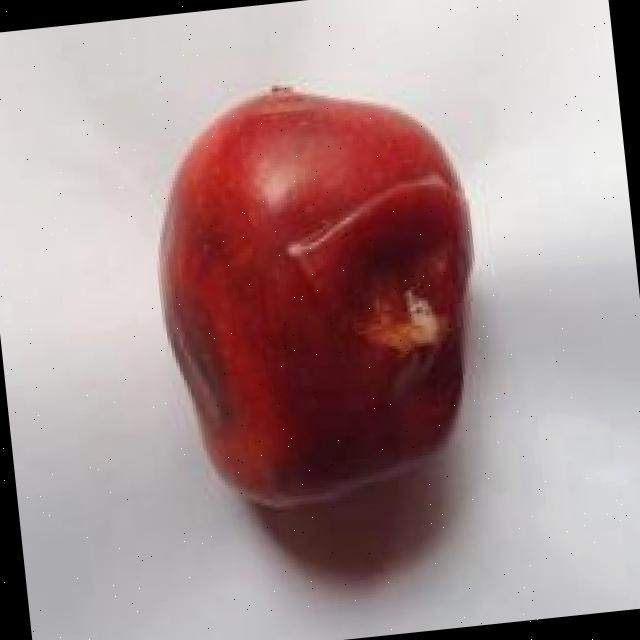rotten apple: (125, 26, 568, 634)
